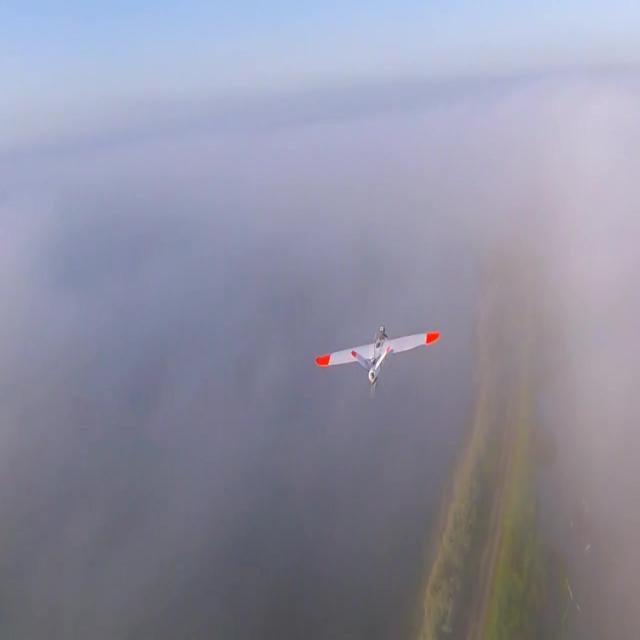iha: (346, 355, 409, 361)
